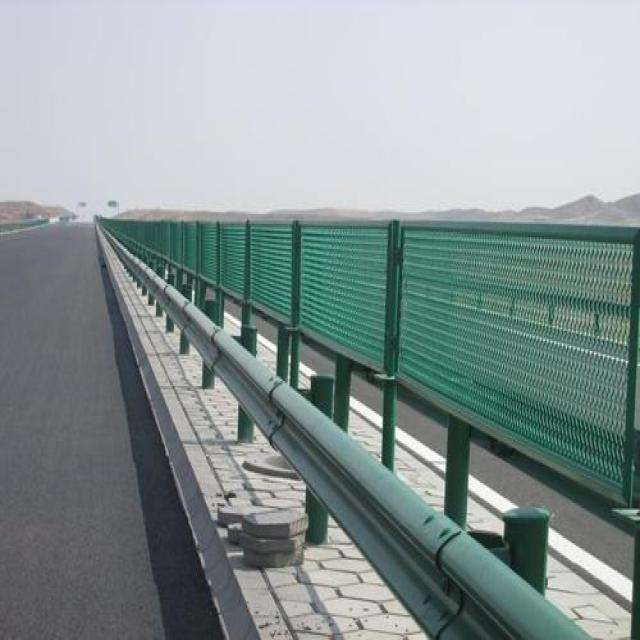Guard rail: (100, 233, 590, 637)
